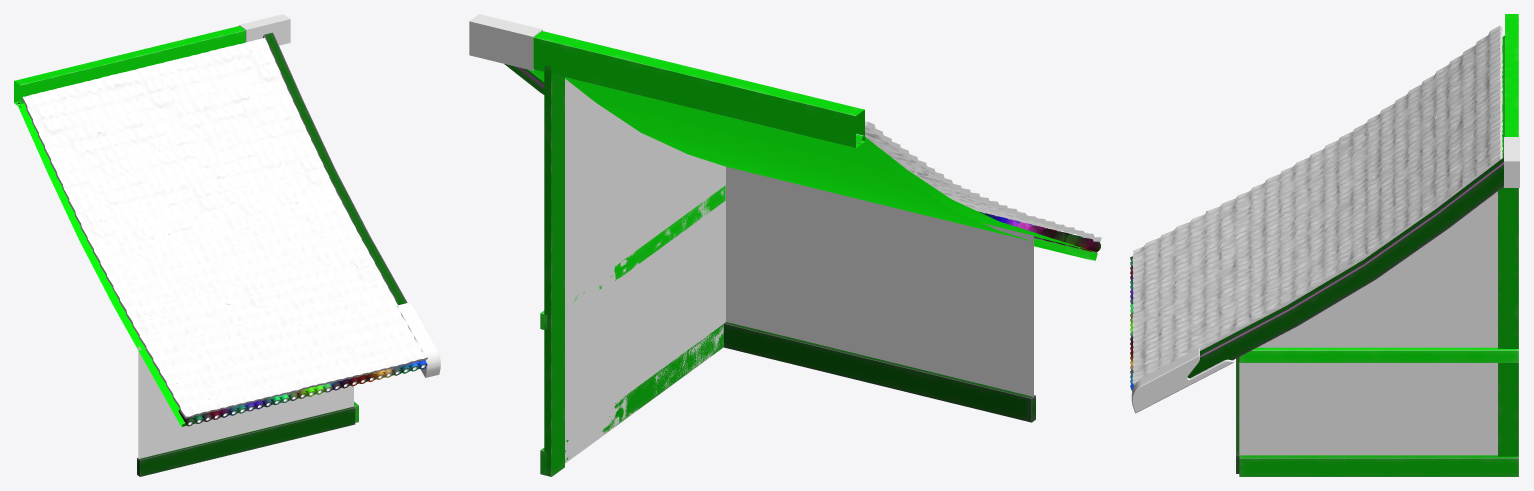
Rendered from roof_400_01_right.fbx.
3 views of the same model, side by side, from view 1: azimuth 30°, elevation 25°; view 2: azimuth 150°, elevation 25°; view 3: azimuth 270°, elevation 25° (orthographic). The views are drawn at different scales.
Parts seen in each view (by area): view 1: roof_400_01_right; view 2: roof_400_01_right; view 3: roof_400_01_right.
Boxes of the visible parts, <box> form: roof_400_01_right: <box>14,14,440,476</box>; roof_400_01_right: <box>469,14,1101,476</box>; roof_400_01_right: <box>1130,14,1519,476</box>.
Bounding box in the file's own units: 5.01 × 5.41 × 5.58.
